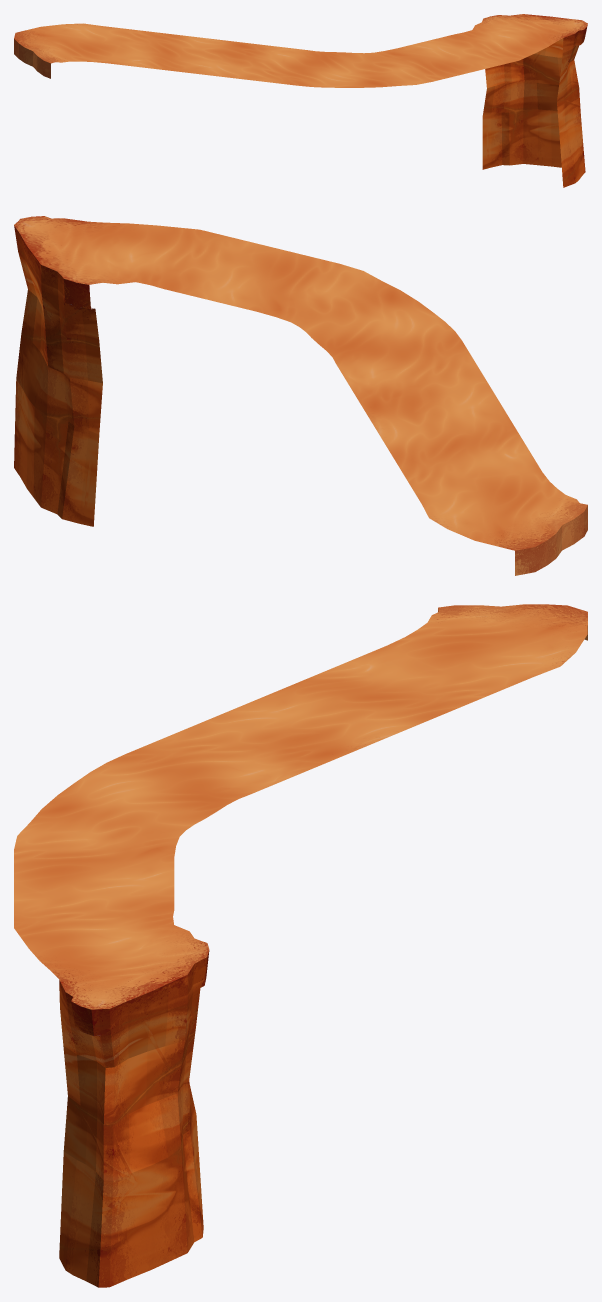
Rendered from path_10.fbx.
3 views of the same model, one above another, from view 1: azimuth 30°, elevation 25°; view 2: azimuth 150°, elevation 25°; view 3: azimuth 270°, elevation 25° (orthographic). The views are drawn at different scales.
Visible parts, largest first — view 1: path_10; view 2: path_10; view 3: path_10.
Part boxes in pixels (left/top/right/bottom): path_10: left=14, top=14, right=587, bottom=187; path_10: left=14, top=216, right=587, bottom=575; path_10: left=14, top=604, right=587, bottom=1287.
Size of the model in its own units: 72.36 by 23.17 by 43.29.
Materials: 1 (1 with a texture image).
